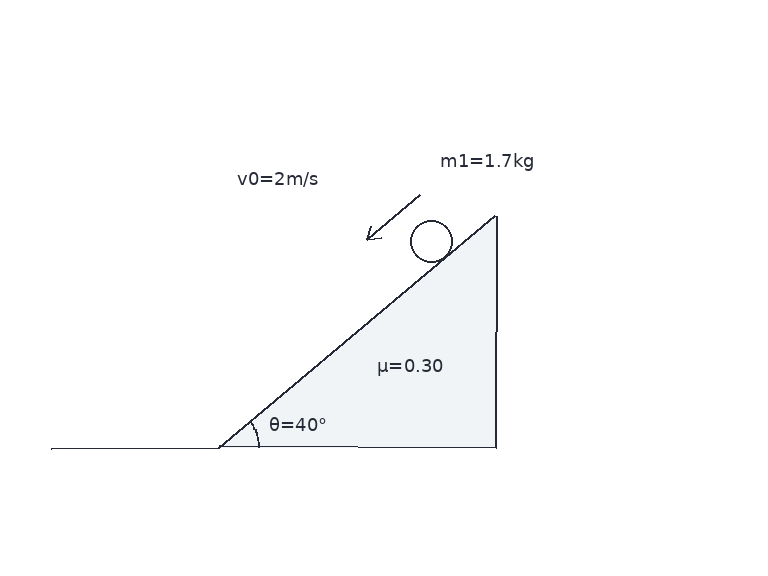ball: (408, 218, 454, 264)
ramp: (217, 213, 498, 449)
